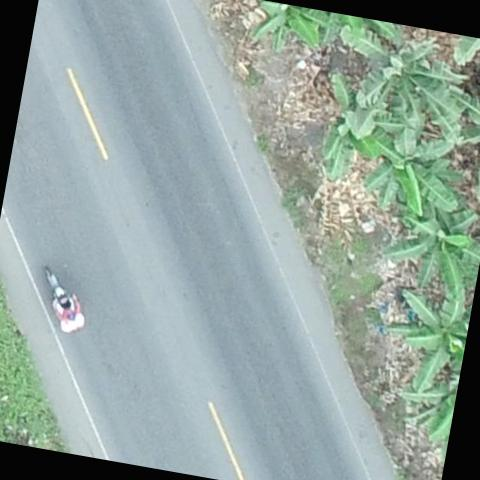Banana-plant: (347, 28, 476, 142), (308, 68, 420, 193), (374, 271, 476, 400), (371, 188, 480, 305), (356, 122, 474, 228), (240, 0, 334, 61)
